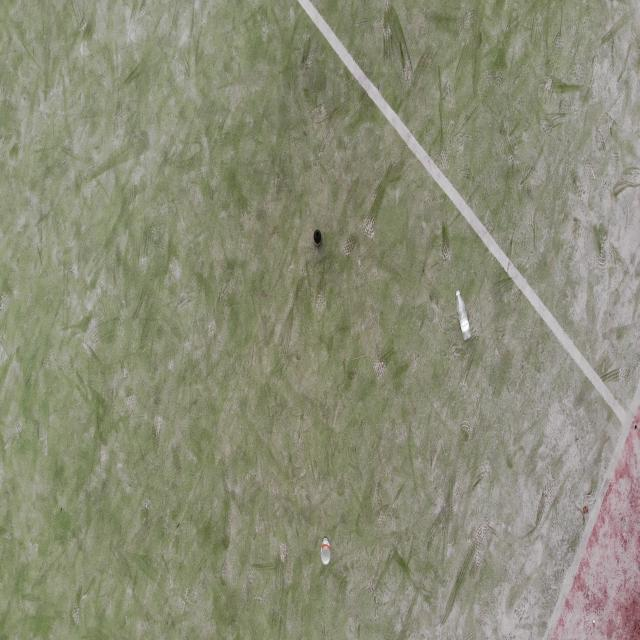rubbish: (456, 290, 472, 343), (320, 539, 331, 564), (314, 229, 322, 245)
